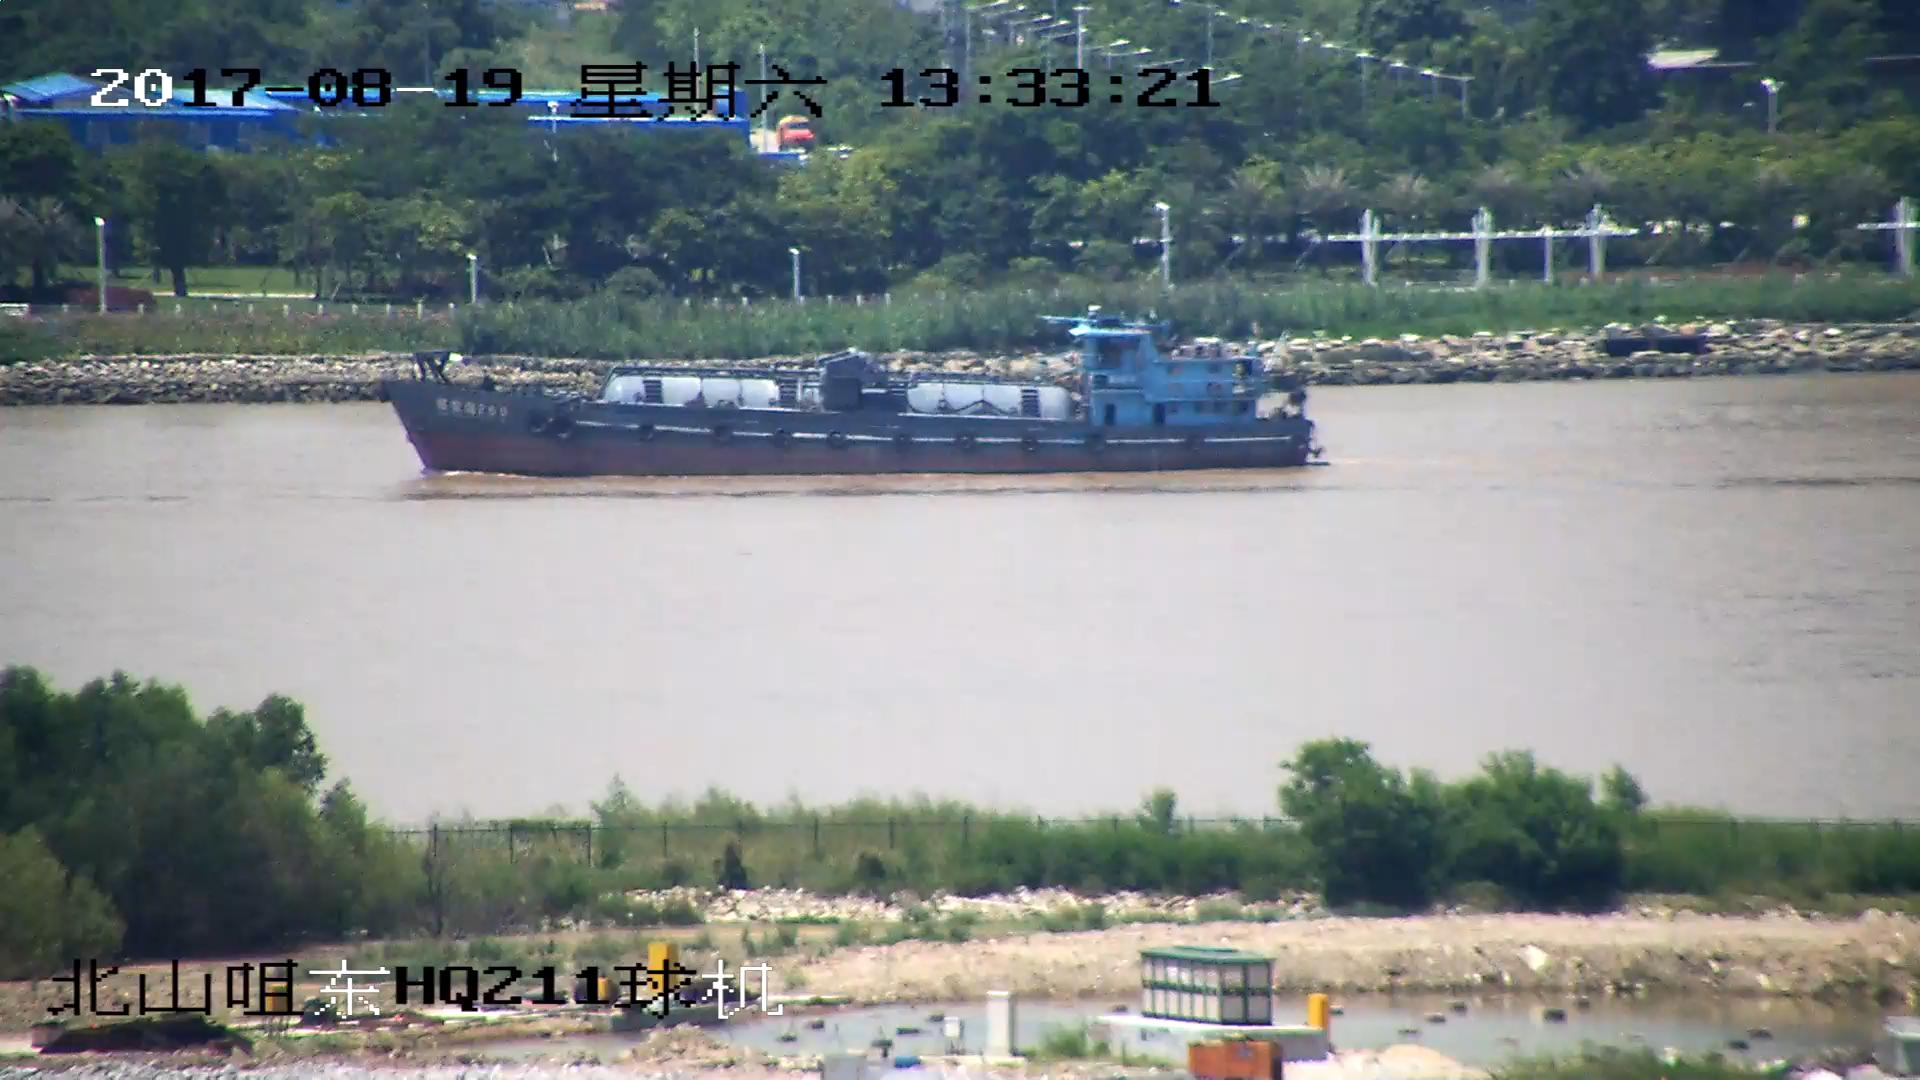bulk cargo carrier: (388, 312, 1320, 479)
